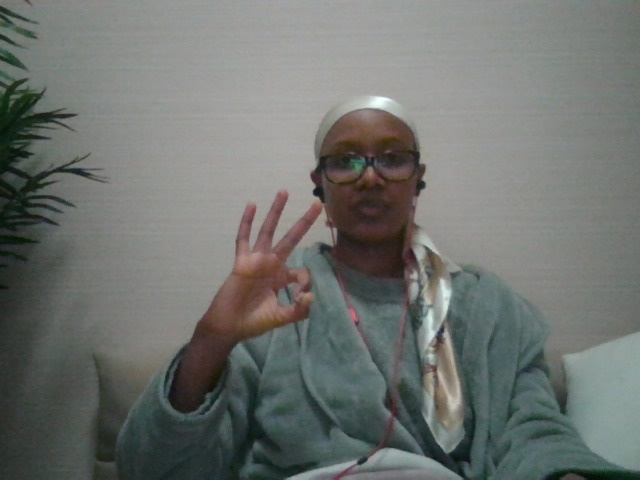ok: (195, 184, 330, 352)
